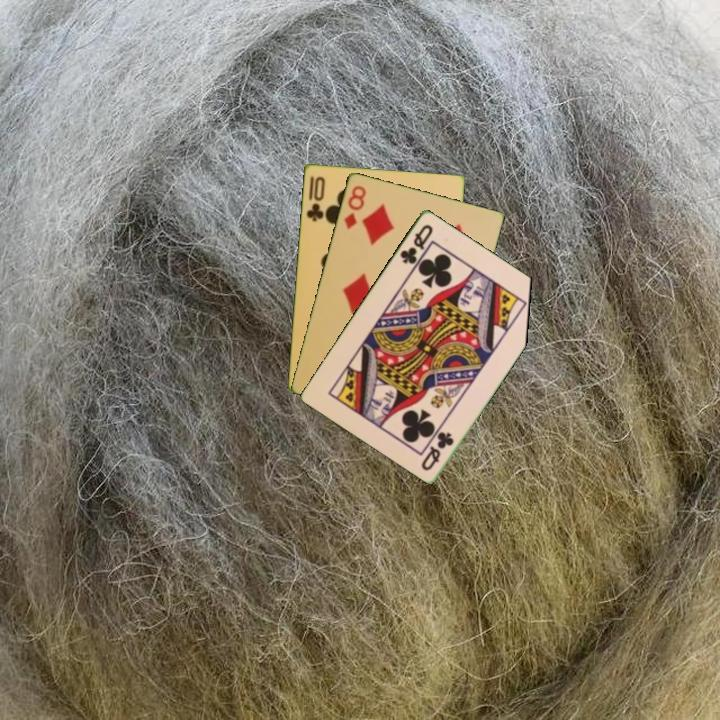10c: (303, 173, 328, 224)
8d: (340, 182, 369, 232)
Qc: (396, 220, 436, 267), (417, 428, 457, 473)
